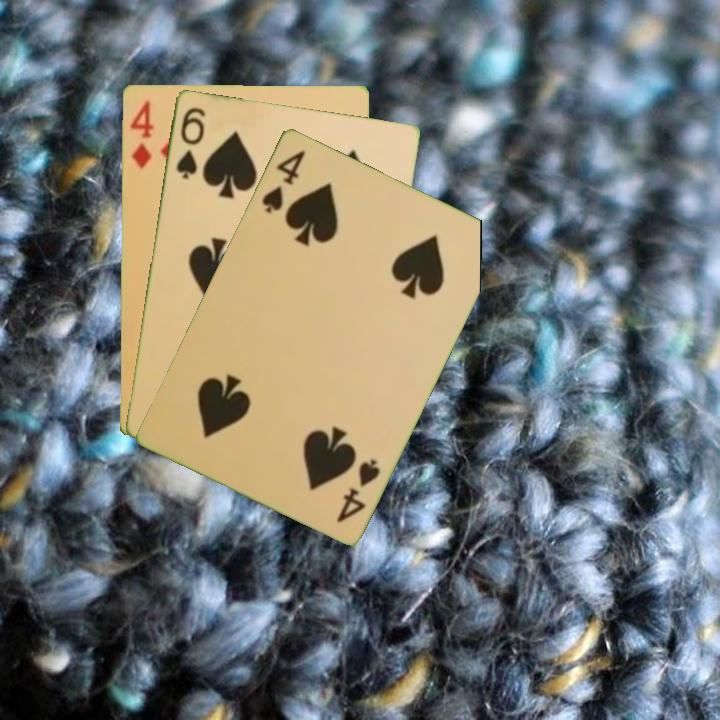4d: (127, 96, 157, 171)
4s: (332, 454, 383, 525), (258, 145, 308, 216)
6s: (172, 103, 208, 182)
